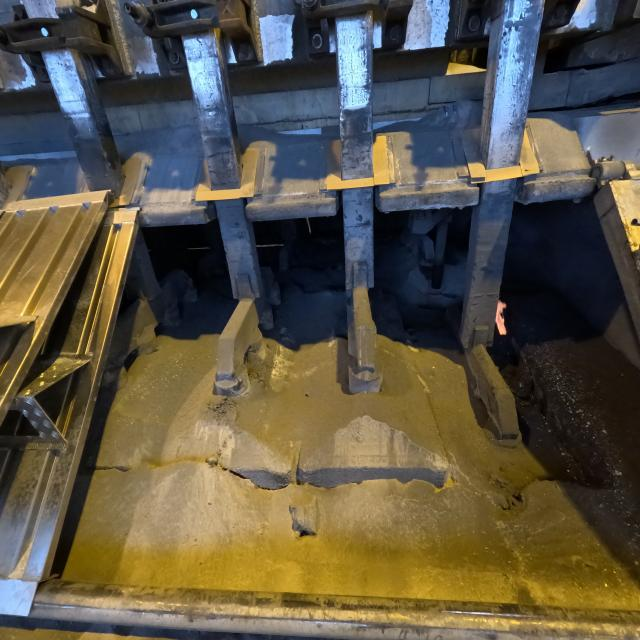Blackspot: (300, 467, 448, 487), (229, 469, 292, 489), (95, 466, 131, 472)
